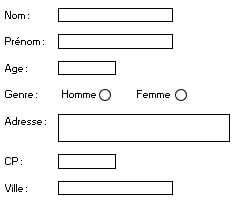input: (55, 109, 233, 147), (54, 4, 176, 25), (54, 177, 175, 198), (54, 31, 175, 50), (55, 57, 122, 80), (54, 151, 122, 171)
text: (2, 85, 46, 105), (1, 32, 48, 49), (56, 86, 97, 103), (2, 179, 35, 199), (2, 113, 49, 127), (132, 87, 172, 102), (1, 60, 32, 79), (1, 4, 33, 22), (2, 154, 31, 170)
